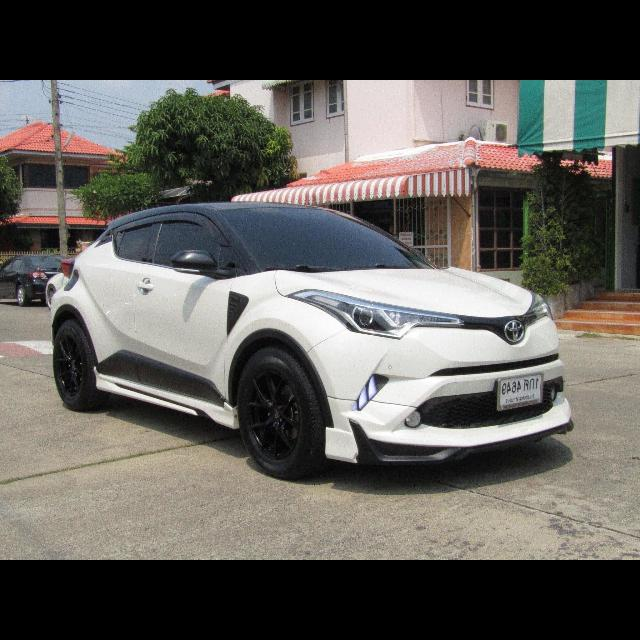cars: (42, 191, 582, 489)
